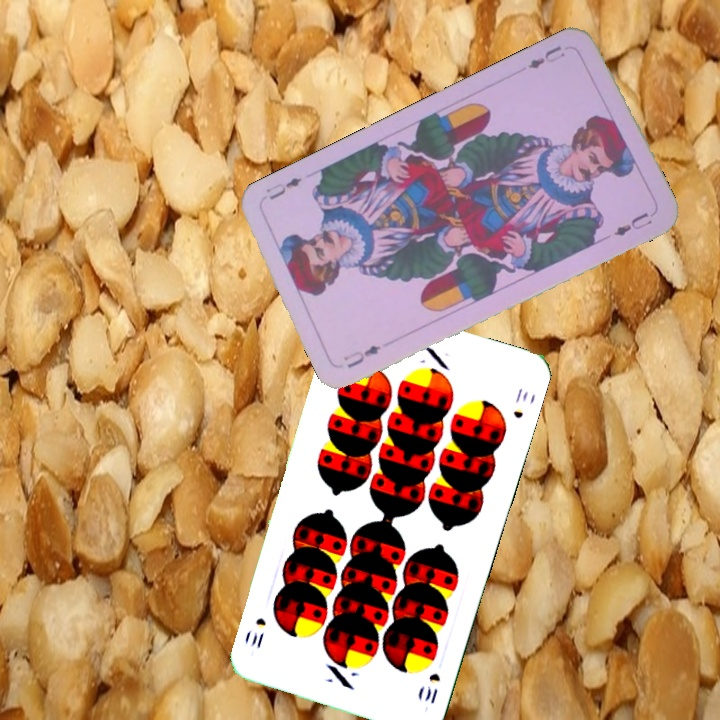EU: (524, 41, 568, 72), (339, 341, 384, 371)
S10: (420, 668, 443, 707)
